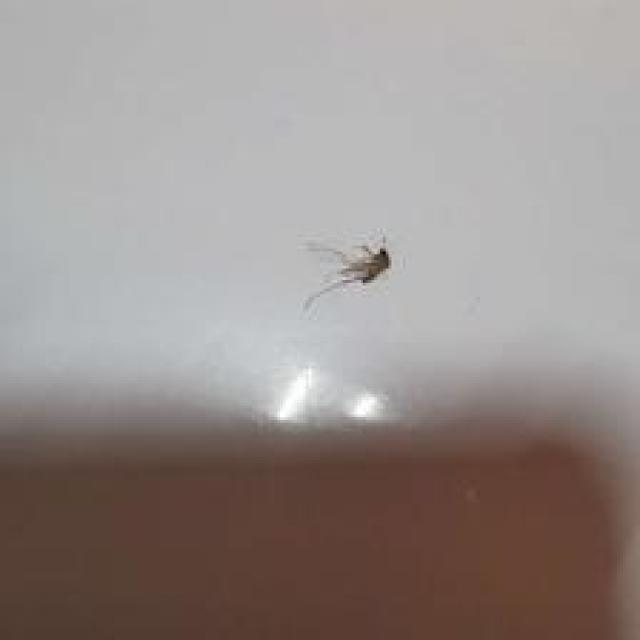Culex: (301, 234, 393, 312)
